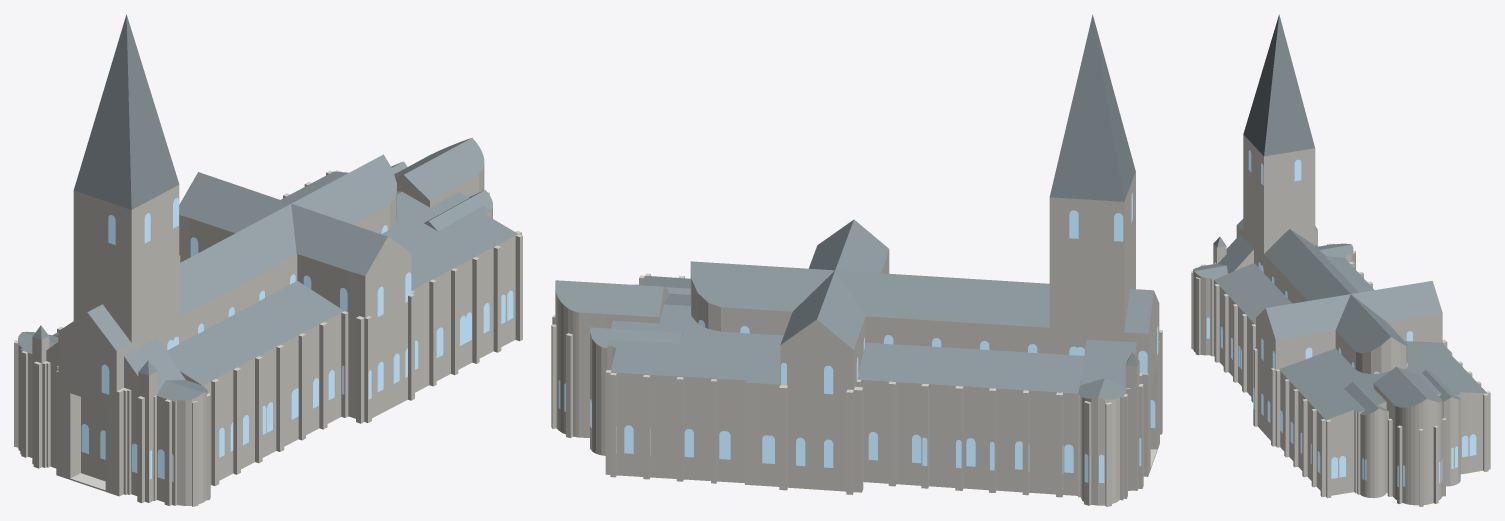
Rendered from detail.glb.
The picture shows the model from 3 angles, left to right: view 1: azimuth 30°, elevation 25°; view 2: azimuth 150°, elevation 25°; view 3: azimuth 270°, elevation 25°; orthographic projection. The views are drawn at different scales.
Visible parts, largest first — view 1: stone, roof, window; view 2: stone, roof, window; view 3: stone, roof, window.
Part boxes in pixels (left/top/right/bottom): stone: left=14, top=164, right=522, bottom=506; roof: left=18, top=14, right=517, bottom=401; window: left=81, top=198, right=513, bottom=482; stone: left=551, top=171, right=1162, bottom=506; roof: left=555, top=14, right=1153, bottom=399; window: left=558, top=193, right=1158, bottom=482; stone: left=1191, top=134, right=1490, bottom=506; roof: left=1193, top=14, right=1486, bottom=419; window: left=1206, top=150, right=1476, bottom=486.
Size of the model in its own units: 94.9 by 78 by 63.94.
